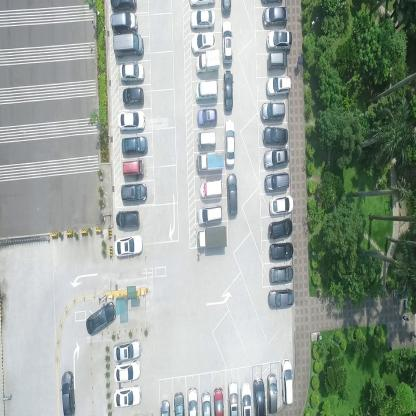car: (85, 300, 116, 336), (196, 223, 228, 248), (113, 32, 143, 58), (113, 384, 142, 409), (114, 234, 143, 258), (113, 338, 142, 362), (61, 370, 76, 416), (195, 49, 220, 75), (262, 145, 290, 168), (116, 109, 146, 130), (280, 355, 293, 403), (268, 216, 294, 240), (195, 150, 223, 172), (252, 376, 267, 416), (265, 73, 291, 96), (114, 360, 141, 382), (224, 118, 236, 166), (268, 190, 292, 214), (261, 6, 287, 28), (266, 30, 292, 52), (197, 202, 223, 224), (111, 12, 137, 34), (267, 286, 294, 307), (190, 8, 215, 30), (260, 99, 285, 121), (190, 31, 216, 52), (221, 19, 233, 64), (121, 135, 148, 155), (120, 182, 147, 202), (266, 372, 278, 416), (263, 169, 288, 190), (120, 63, 145, 84), (268, 263, 293, 284), (226, 172, 237, 216), (199, 179, 222, 200), (194, 80, 218, 100), (262, 126, 288, 144), (269, 240, 293, 259), (115, 210, 140, 228), (121, 158, 144, 177), (223, 69, 233, 110), (266, 50, 286, 70), (197, 107, 218, 126), (122, 87, 144, 105), (228, 381, 239, 415), (241, 382, 252, 415), (187, 386, 199, 415), (213, 386, 224, 416), (110, 0, 137, 12), (197, 130, 216, 147), (201, 390, 212, 415), (174, 392, 185, 415), (189, 0, 215, 8), (160, 398, 170, 416), (220, 0, 231, 15)
